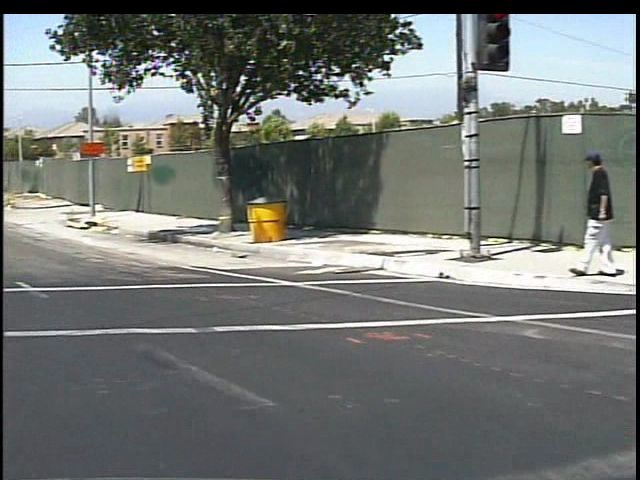person: (560, 144, 609, 288)
